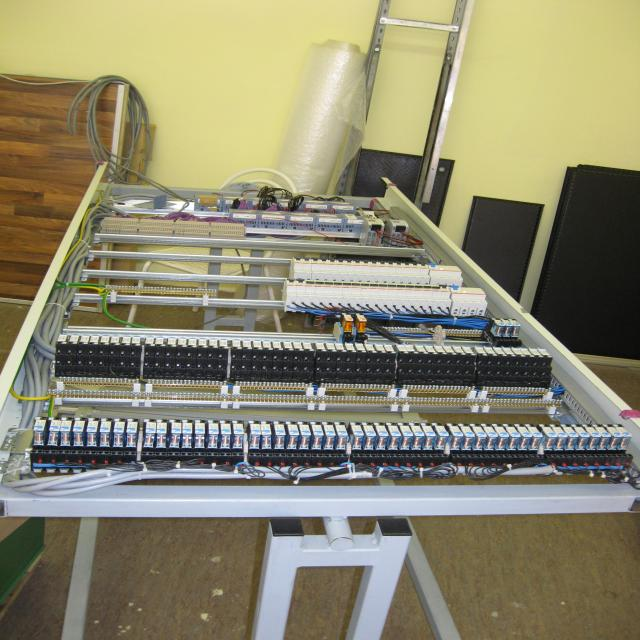Dimmer: (365, 218, 385, 226), (389, 219, 409, 227)
FI: (450, 286, 488, 304), (429, 263, 463, 280)
Leitungsschutzschalter: (0, 162, 640, 521)
Relais: (592, 424, 613, 438), (582, 424, 602, 437), (492, 424, 511, 437), (539, 424, 558, 437), (347, 422, 364, 436), (458, 423, 475, 437), (504, 424, 521, 438), (561, 425, 580, 437), (571, 425, 590, 437), (361, 422, 377, 436), (433, 423, 450, 436), (515, 424, 532, 437), (526, 424, 543, 437), (550, 425, 568, 437), (604, 425, 622, 437), (297, 422, 312, 436), (409, 423, 425, 436), (470, 424, 486, 437), (481, 424, 497, 437), (73, 418, 87, 432), (86, 418, 100, 432), (99, 418, 113, 432), (374, 423, 389, 436), (386, 423, 401, 436), (398, 423, 413, 436), (421, 423, 436, 436), (448, 423, 463, 436), (60, 417, 73, 431), (286, 422, 300, 435), (311, 422, 324, 436), (322, 422, 335, 436), (334, 422, 348, 435), (34, 417, 47, 430), (126, 419, 139, 432), (232, 421, 245, 434), (50, 417, 62, 431), (220, 420, 232, 434), (249, 421, 261, 435), (260, 421, 272, 435), (462, 345, 477, 356), (528, 348, 544, 358), (443, 345, 459, 355), (114, 419, 126, 432), (156, 420, 168, 433), (273, 422, 285, 435), (182, 420, 193, 434), (208, 420, 219, 434), (452, 345, 466, 356), (425, 344, 439, 355), (146, 418, 156, 433), (537, 348, 552, 358), (511, 347, 526, 357), (502, 348, 517, 358), (493, 347, 508, 357), (395, 344, 410, 354), (520, 348, 536, 357), (416, 344, 429, 355), (195, 420, 205, 434), (434, 345, 448, 355), (171, 420, 181, 433), (475, 346, 488, 356), (405, 344, 418, 354), (355, 343, 368, 353), (384, 344, 397, 354), (484, 347, 498, 356), (375, 343, 386, 354), (273, 340, 284, 351), (283, 340, 294, 351), (121, 335, 132, 346), (156, 336, 167, 347), (325, 342, 337, 352), (335, 342, 347, 352), (345, 343, 357, 353), (293, 341, 305, 351), (492, 318, 506, 326), (365, 343, 376, 353), (232, 339, 242, 350), (303, 341, 314, 351), (69, 334, 80, 344), (79, 334, 90, 344), (89, 334, 100, 344), (99, 335, 110, 345), (110, 334, 120, 345), (315, 342, 327, 351), (243, 340, 253, 350), (263, 340, 273, 350), (58, 333, 68, 343), (131, 336, 141, 346), (145, 336, 155, 346), (166, 337, 176, 347), (198, 338, 208, 348), (177, 338, 188, 347), (500, 318, 512, 326), (508, 319, 521, 326), (188, 338, 197, 348), (209, 338, 218, 348), (219, 339, 228, 349), (253, 340, 262, 349)
SPS-System -Steuerungskomponente-: (314, 212, 344, 218), (287, 211, 316, 217), (328, 201, 357, 207), (194, 194, 223, 200), (304, 200, 331, 206), (224, 195, 251, 201), (229, 209, 259, 214), (258, 210, 288, 215), (276, 198, 292, 202), (250, 197, 260, 201)
Sicherungen_230V: (284, 279, 297, 296), (395, 283, 408, 300), (323, 280, 335, 297), (350, 281, 362, 298), (377, 282, 389, 299), (386, 283, 398, 300), (439, 285, 451, 302), (404, 283, 416, 300), (359, 282, 371, 298), (414, 284, 426, 300), (296, 279, 307, 296), (305, 279, 316, 296), (314, 280, 325, 297), (342, 281, 353, 298), (369, 282, 380, 299), (423, 284, 434, 301), (431, 284, 442, 301), (410, 262, 422, 277), (333, 281, 344, 297), (293, 257, 304, 273), (302, 257, 313, 273), (378, 260, 389, 276), (394, 261, 405, 277), (336, 259, 347, 274), (344, 259, 355, 274), (386, 261, 397, 276), (402, 262, 413, 277), (311, 257, 321, 273), (320, 258, 330, 274), (328, 258, 338, 274), (353, 259, 363, 275), (370, 260, 380, 276), (362, 260, 372, 275), (419, 263, 429, 278)
